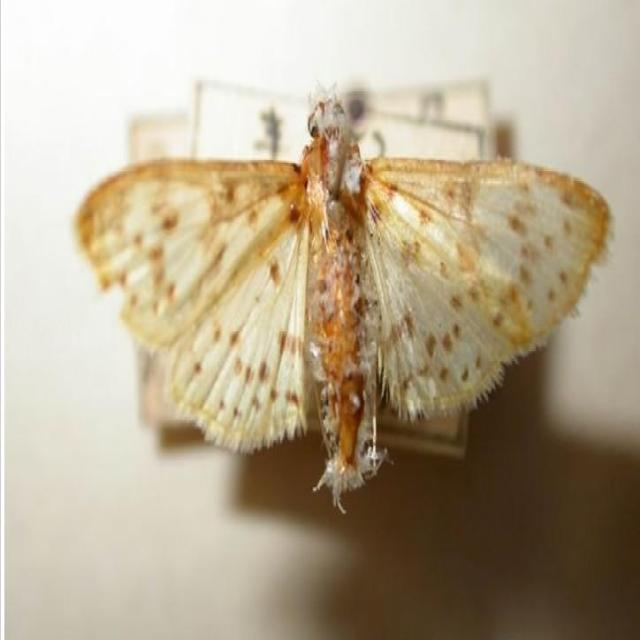peach borer: (72, 90, 611, 512)
